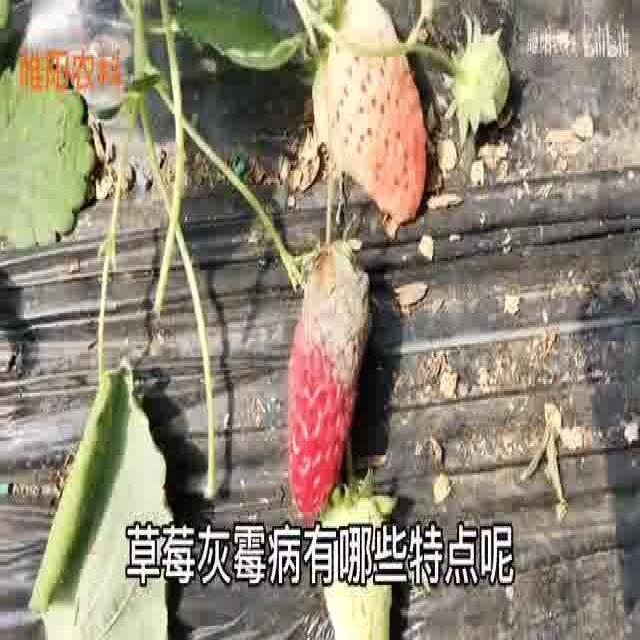Fruta sana: (311, 0, 428, 226), (444, 13, 512, 150)
Moho gris: (286, 237, 372, 518)
